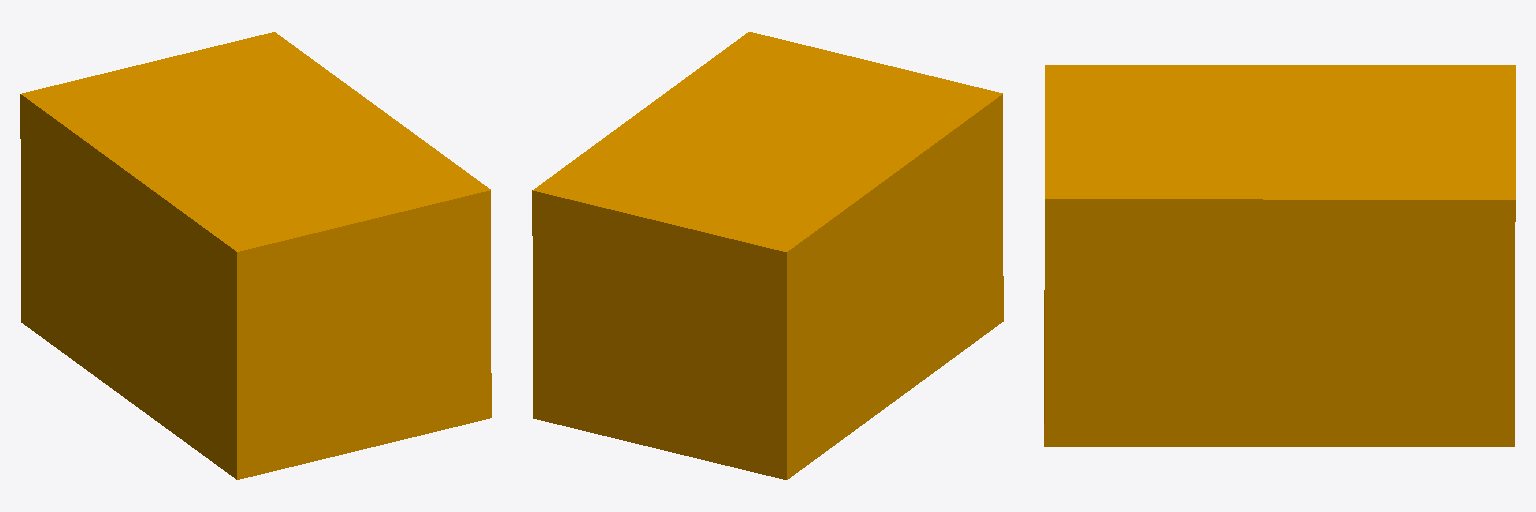
The robot description file, URDF, robot "big_box":
<?xml version="1.0"?>
<robot name="big_box">
<link name="big_box">
    <visual>
      <geometry>
        <mesh filename="package://shipping_experiment/models/cad_models/obj/big_box.obj"/>
      </geometry>
      <origin rpy="1.57 0 0" xyz="0 0 0"/>
    </visual>
    <collision>
      <geometry>
        <mesh filename="package://shipping_experiment/models/cad_models/obj/big_box.obj"/>
      </geometry>
      <origin rpy="1.57 0 0" xyz="0 0 -0"/>
      <contact_coefficients mu="1000.0" kp="0.00" kd="0.0"/>
    </collision>

    <inertial>
      <mass value="0.7"/>
      <inertia ixx="0.001" ixy="0.0" ixz="0.0"
               iyy="0.001" iyz="0.0"
               izz="0.001"/>
    </inertial>
</link>

</robot>

--- What the picture shows (computed from the rendered views, not written in the file) ---
Views: 3 orthographic renders of the robot side by side, from view 1: azimuth 30°, elevation 25°; view 2: azimuth 150°, elevation 25°; view 3: azimuth 270°, elevation 25°.
Model big_box with 1 links and 0 joints (none), rooted at big_box, posed every joint at zero.
Links seen in each view (by area): view 1: big_box; view 2: big_box; view 3: big_box.
Link boxes in pixels (<box>): big_box: <box>20,32,491,479</box>; big_box: <box>532,32,1003,479</box>; big_box: <box>1044,65,1515,446</box>.
Size in the robot's own frame: 0.42 by 0.6203 by 0.3605 metres.
1 mesh visuals loaded from 1 distinct referenced files (1 OBJ).